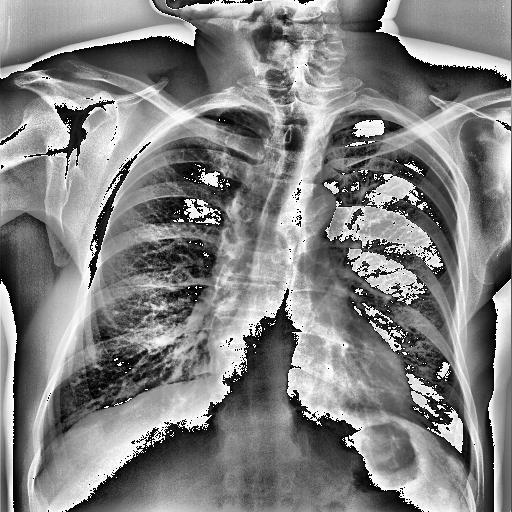13- Pulmonary fibrosis: (120, 280, 179, 289)
9- Other lesion: (216, 203, 298, 432), (260, 87, 311, 221)
